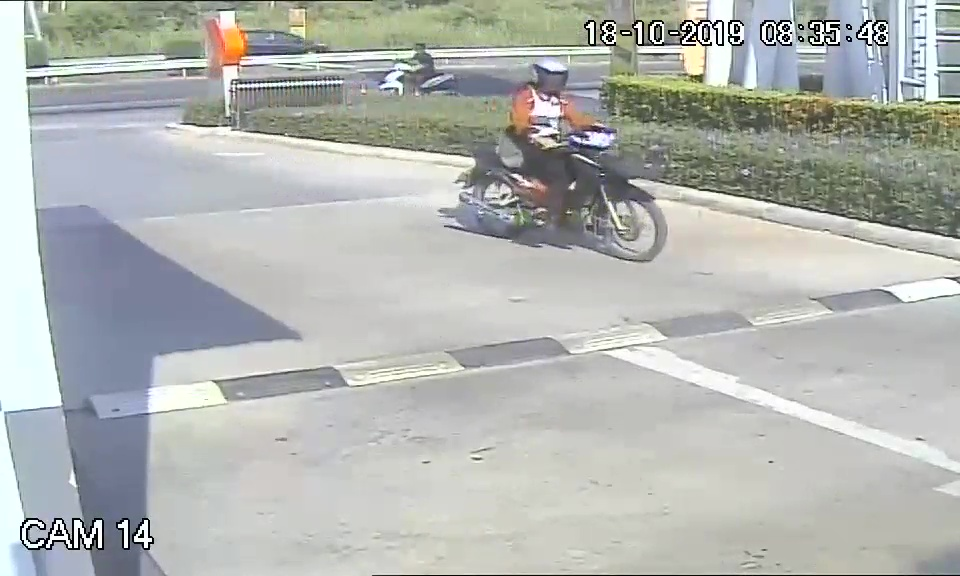motorcycle: (450, 123, 669, 264)
